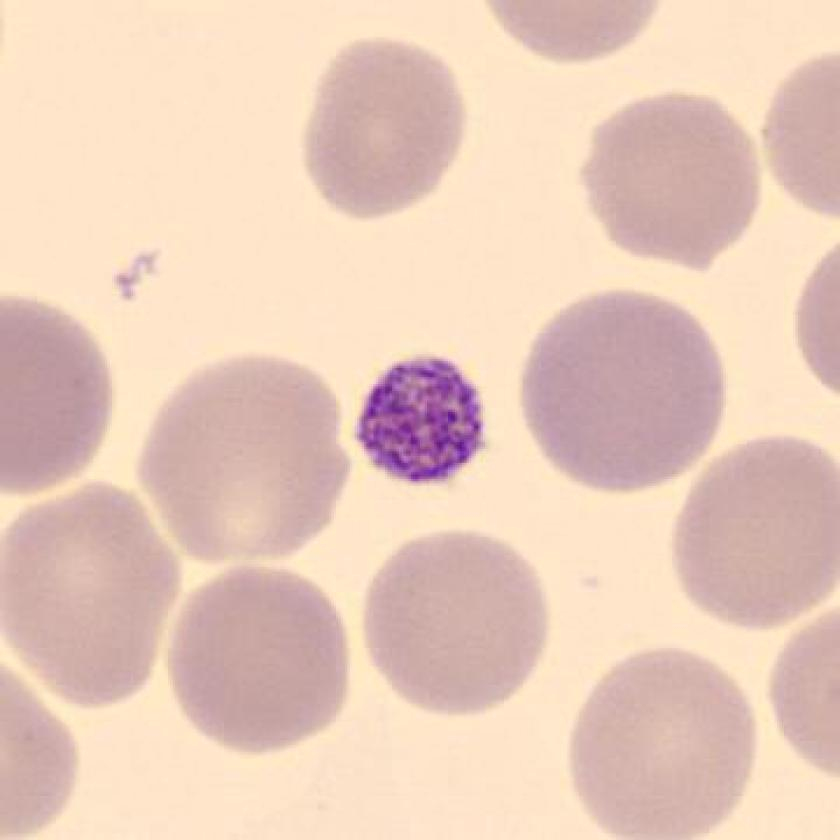platelets: (351, 346, 498, 494)
